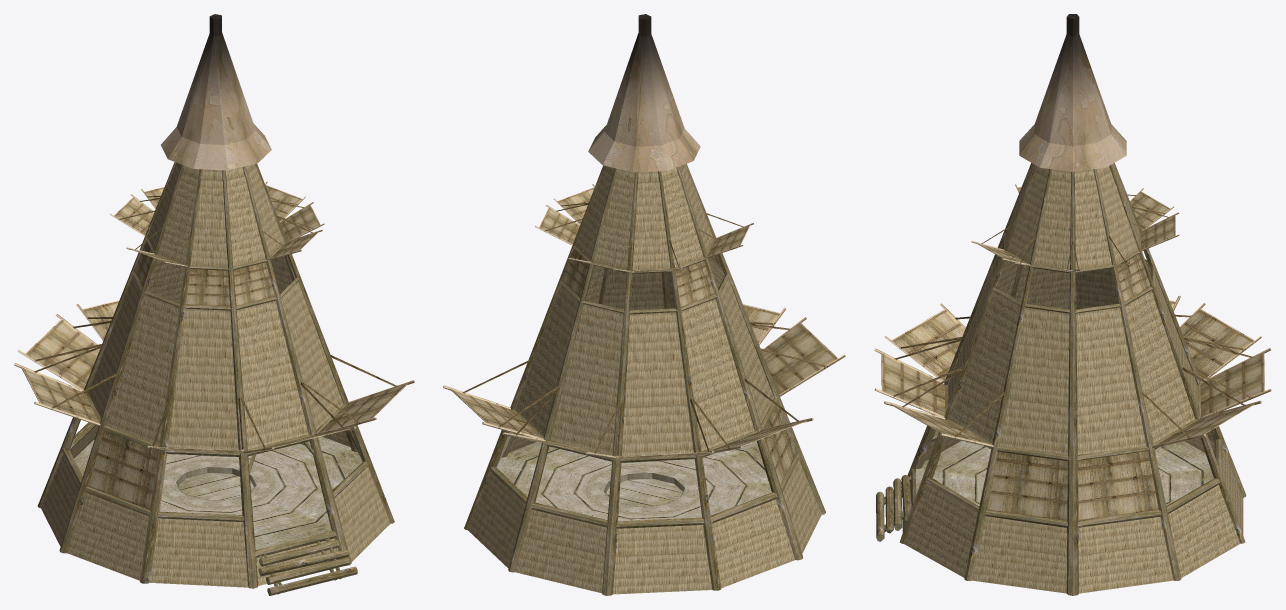
Rendered from thm_endr_lake_hut_s02_l0.fbx.
The picture shows the model from 3 angles, left to right: view 1: azimuth 30°, elevation 25°; view 2: azimuth 150°, elevation 25°; view 3: azimuth 270°, elevation 25°; orthographic projection.
Parts seen in each view (by area): view 1: mesh_node; view 2: mesh_node; view 3: mesh_node.
Boxes of the visible parts, bbox=[...] form: mesh_node: bbox=[14, 14, 414, 595]; mesh_node: bbox=[443, 14, 845, 595]; mesh_node: bbox=[874, 14, 1271, 595].
Size of the model in its own units: 11.42 by 16.49 by 11.75.
